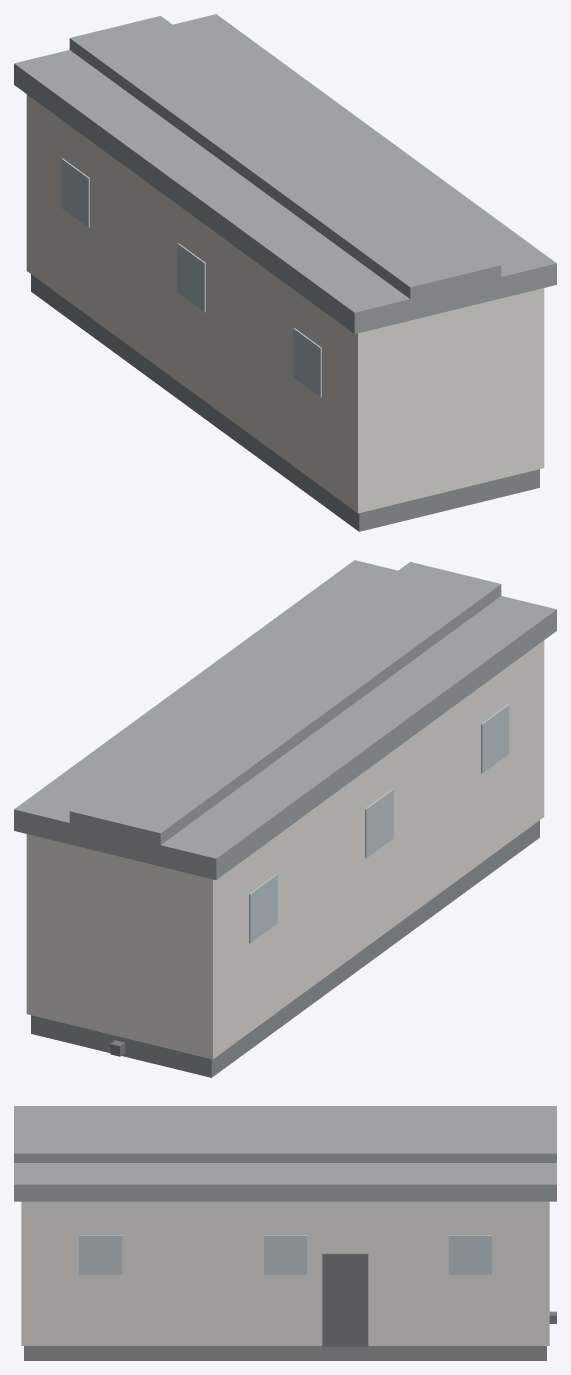
Rendered from park.glb.
3 renders of one model, top to bottom at view 1: azimuth 30°, elevation 25°; view 2: azimuth 150°, elevation 25°; view 3: azimuth 270°, elevation 25°, orthographic. The views are drawn at different scales.
Visible parts, largest first — view 1: wall_1, roof_2, roof_3, skirt_0, glass_6, glass_8, glass_10; view 2: wall_1, roof_2, roof_3, skirt_0, glass_6, glass_8, glass_10; view 3: wall_1, roof_2, roof_3, skirt_0, door_4, glass_5, glass_9, glass_7.
Part boxes in pixels (box(x1,y1,x2,y2)): wall_1: box(26, 94, 544, 513); roof_2: box(14, 14, 556, 333); roof_3: box(69, 16, 501, 298); skirt_0: box(31, 274, 539, 531); glass_6: box(61, 158, 89, 227); glass_8: box(177, 243, 205, 312); glass_10: box(293, 328, 321, 397); wall_1: box(26, 640, 544, 1059); roof_2: box(14, 560, 556, 879); roof_3: box(69, 562, 501, 844); skirt_0: box(31, 820, 539, 1077); glass_6: box(249, 874, 277, 943); glass_8: box(365, 789, 393, 858); glass_10: box(481, 704, 509, 773); wall_1: box(21, 1201, 549, 1345); roof_2: box(14, 1106, 556, 1201); roof_3: box(14, 1118, 556, 1162); skirt_0: box(24, 1346, 546, 1360); door_4: box(322, 1253, 368, 1346); glass_5: box(448, 1235, 491, 1274); glass_9: box(79, 1235, 122, 1274); glass_7: box(264, 1235, 306, 1274).
Size of the model in its own units: 3.66 by 4.11 by 10.67.
